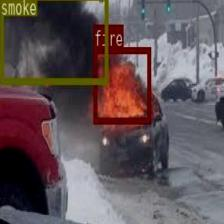fire: (93, 47, 150, 122)
smoke: (0, 0, 108, 83)
